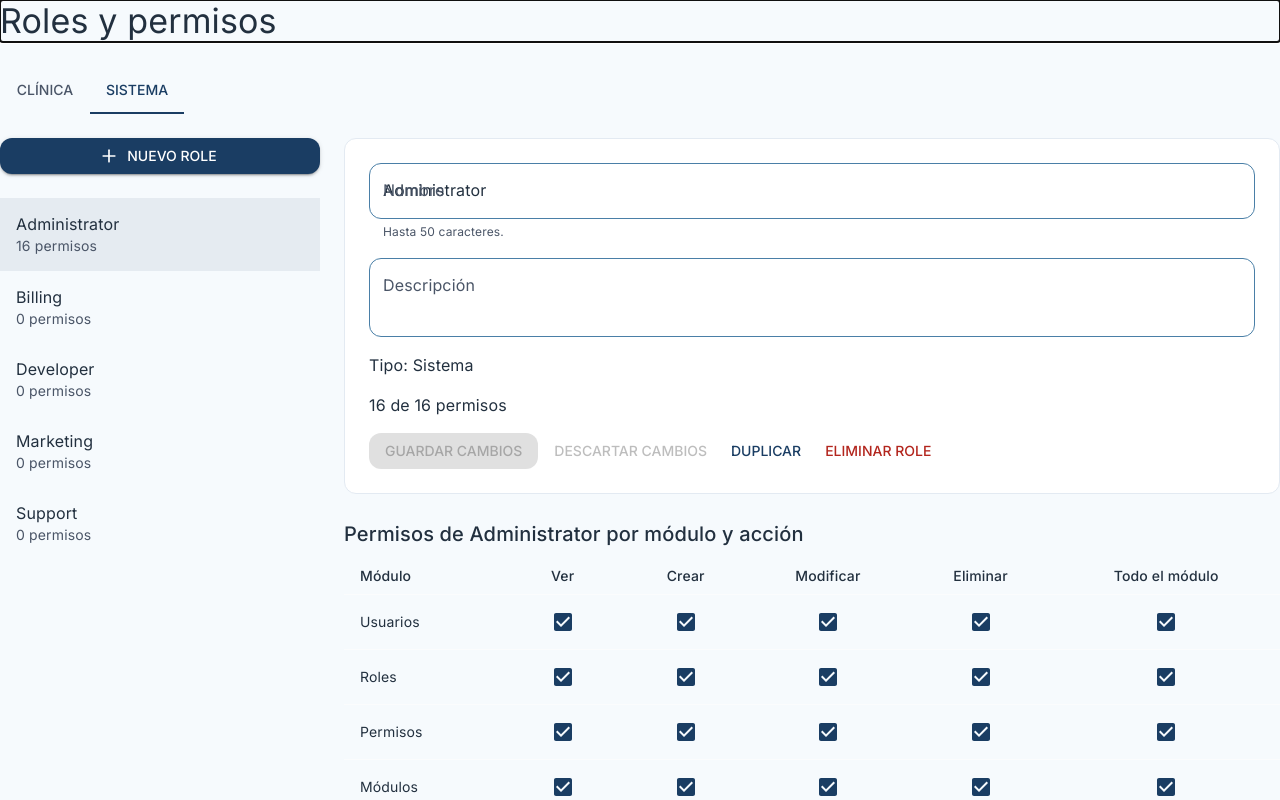
Test: RolesPage › unsaved changes (FR-017, edge case of spec.md) › "Descartar y continuar" proceeds with the switch and drops the edit
The width and height of the screenshot is (1280, 800).
Type " Jr" into the field labelled "Nombre". click: [812, 191]
box: [369,163,1255,219]
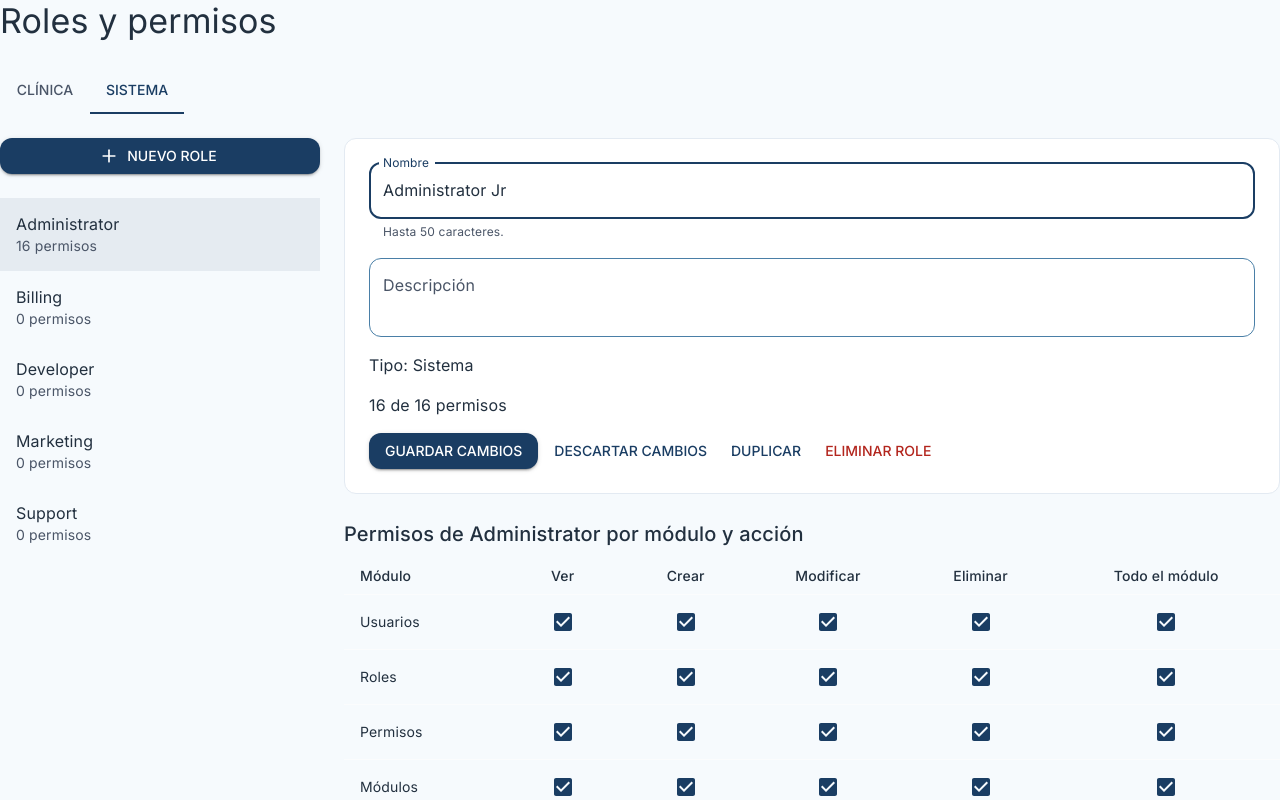
Click the text "Developer". click: [55, 368]
box: [16,358,94,378]
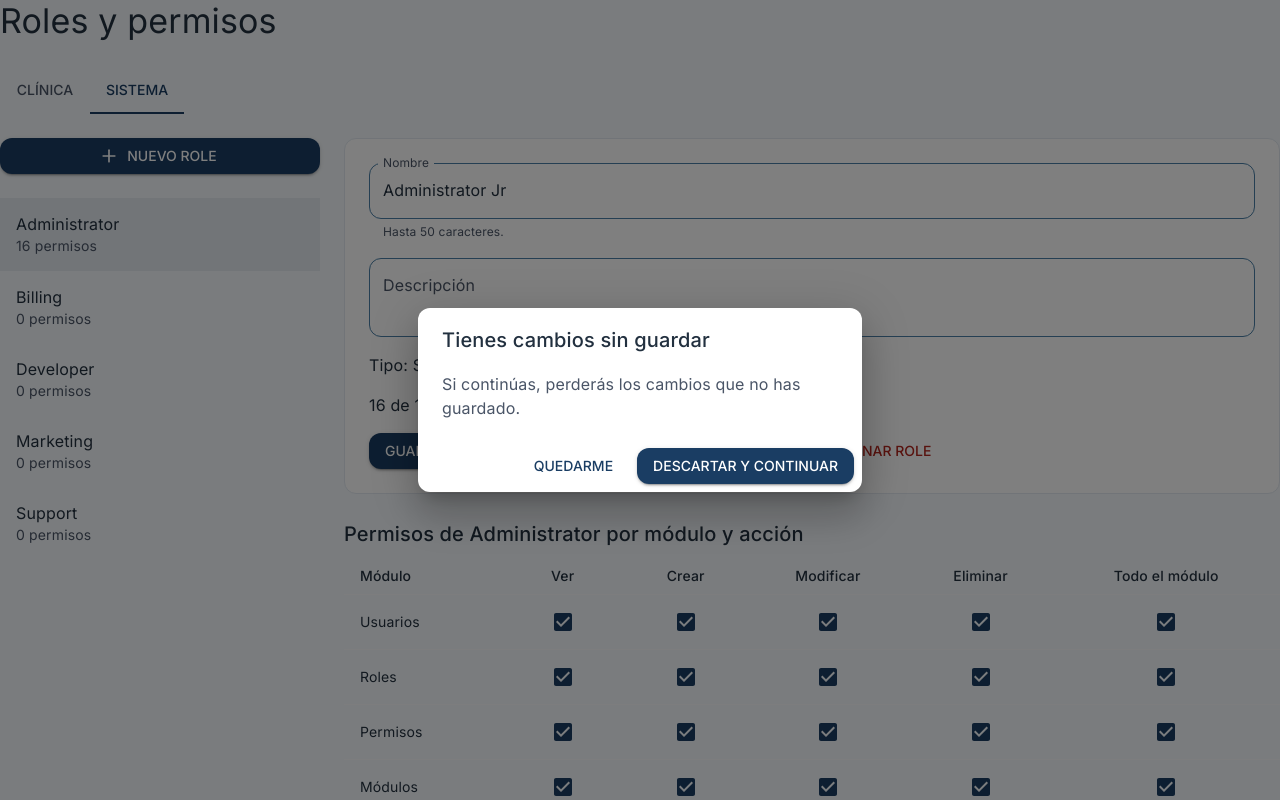
Click the button "Descartar y continuar". click: [746, 466]
box: [637,448,854,484]
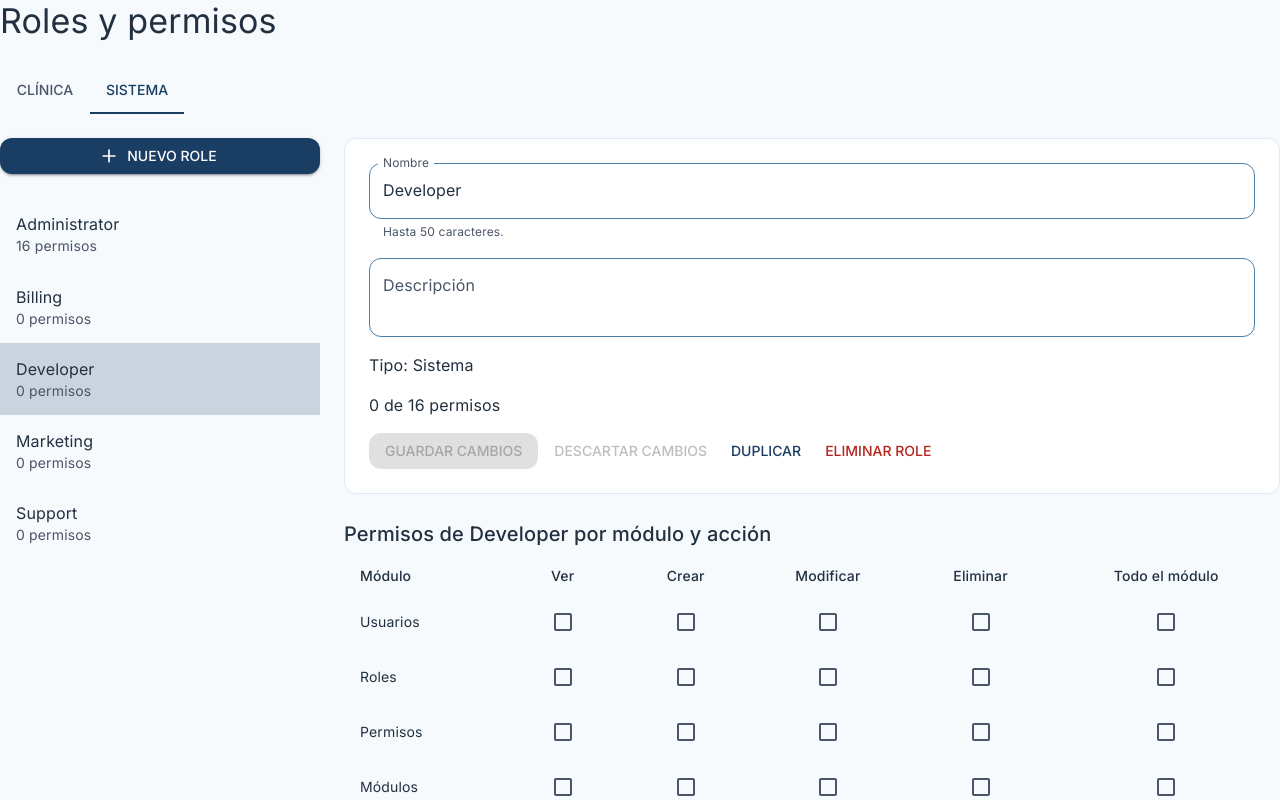
Result: the field showing "Developer" is shown at [369,163,1255,219]
